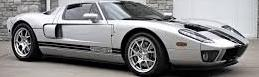Cars: (8, 1, 248, 75)
